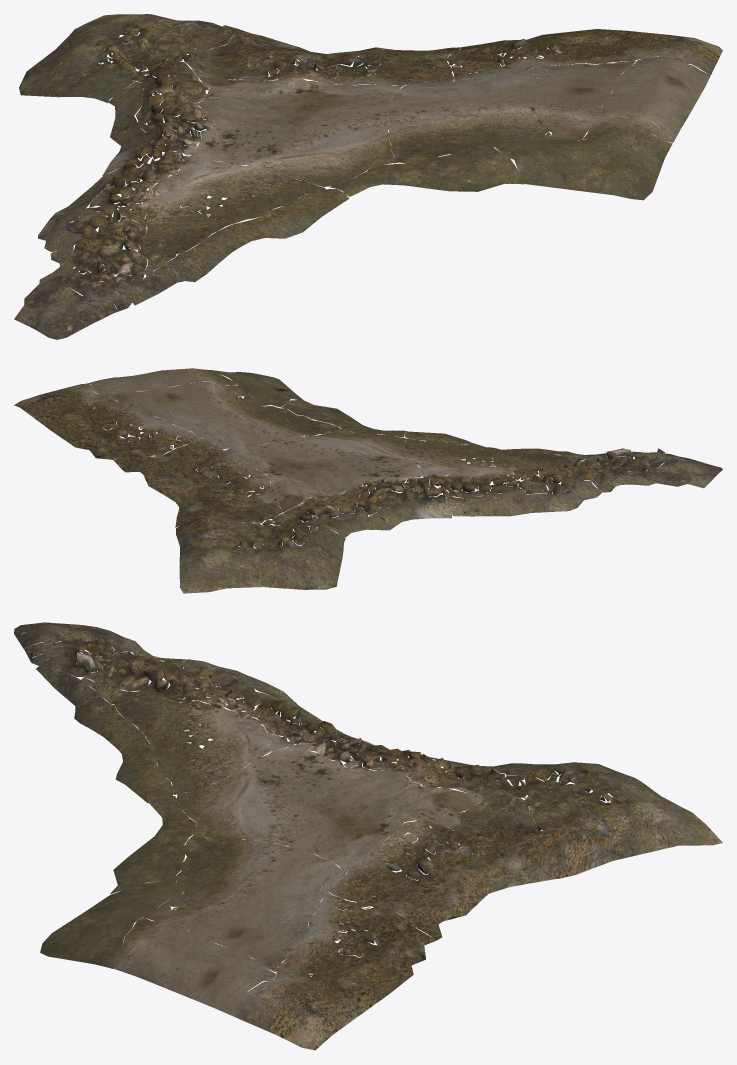
File: CoastRocks.glb
The picture shows the model from 3 angles, top to bottom: view 1: azimuth 30°, elevation 25°; view 2: azimuth 150°, elevation 25°; view 3: azimuth 270°, elevation 25°; orthographic projection. The views are drawn at different scales.
Parts seen in each view (by area): view 1: CoastRocks; view 2: CoastRocks; view 3: CoastRocks.
Boxes of the visible parts, x1=… form: CoastRocks: x1=14, y1=14, x2=722, y2=339; CoastRocks: x1=14, y1=368, x2=722, y2=593; CoastRocks: x1=14, y1=622, x2=722, y2=1050.
Bounding box in the file's own units: 59.46 × 3.22 × 42.6.
Materials: 1 (1 with a texture image).
